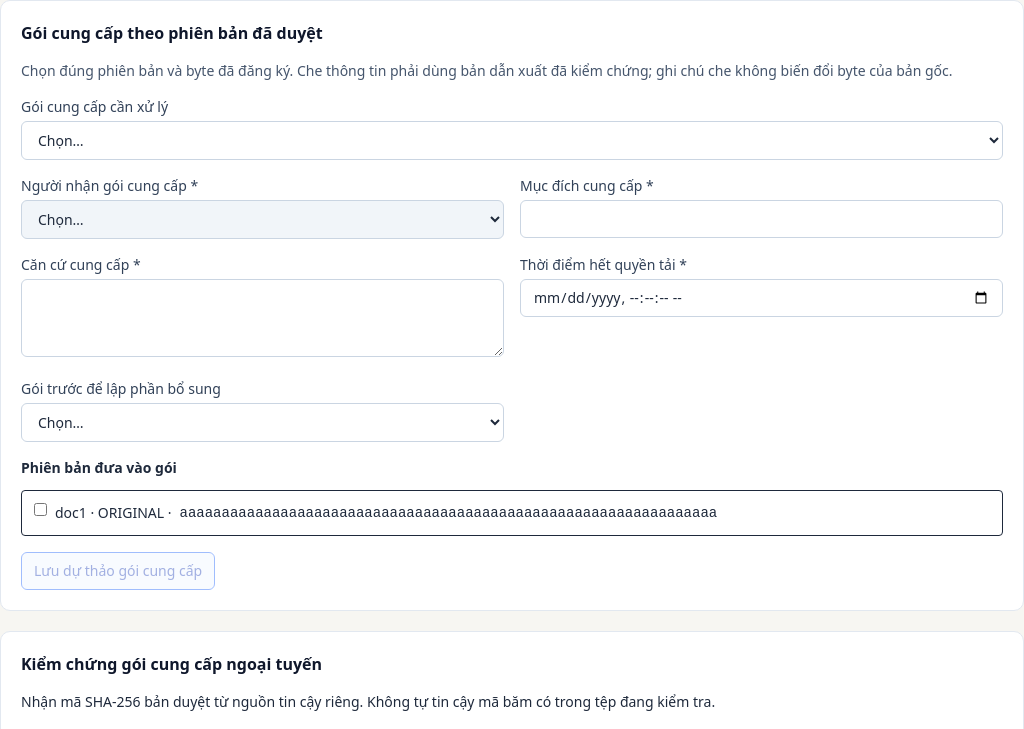
Test: blocks an expired or revoked approved packet in the UI
Select "Exact-version disclosure · v2 · packet1" in the dropdown labelled "Gói cung cấp cần xử lý" at point(512, 140), box [21,121,1003,160]
(page scrolled)
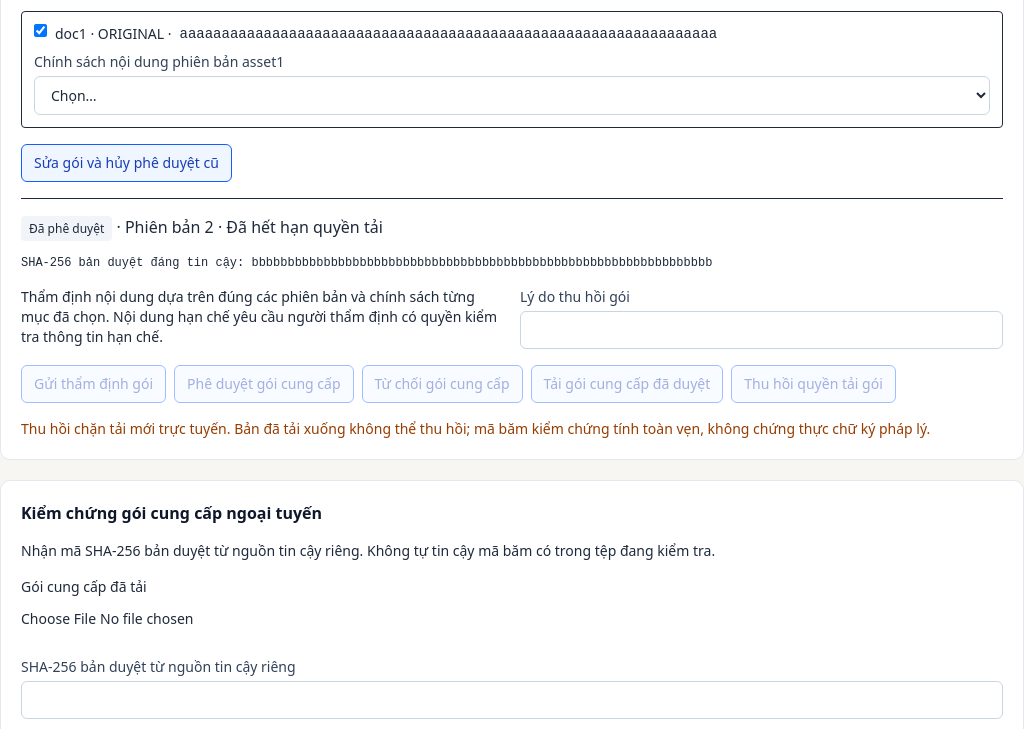
Expected: the button "Tải gói cung cấp đã duyệt" is disabled, [531,365,723,403]
